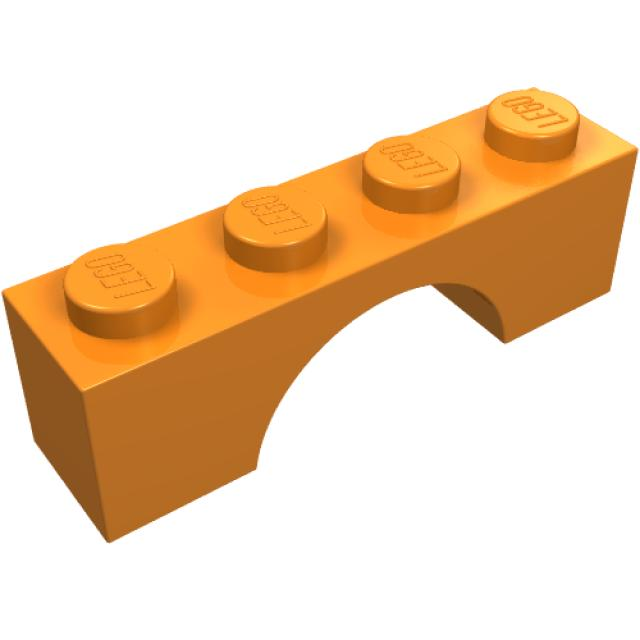Orange_Medium: (4, 88, 640, 544)
